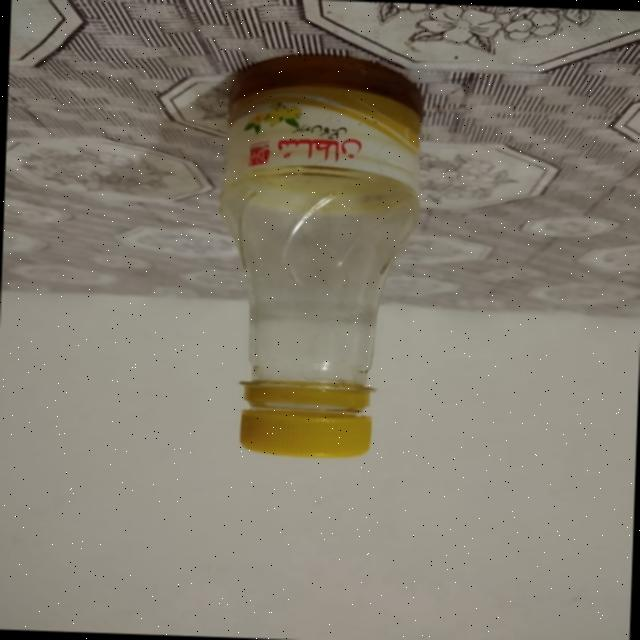bottle: (191, 44, 455, 466)
cap: (236, 372, 382, 459)
label: (228, 56, 434, 196)
